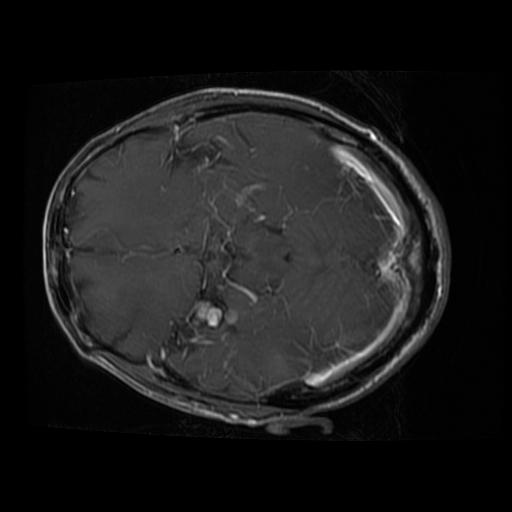glioma: (185, 296, 226, 331)
